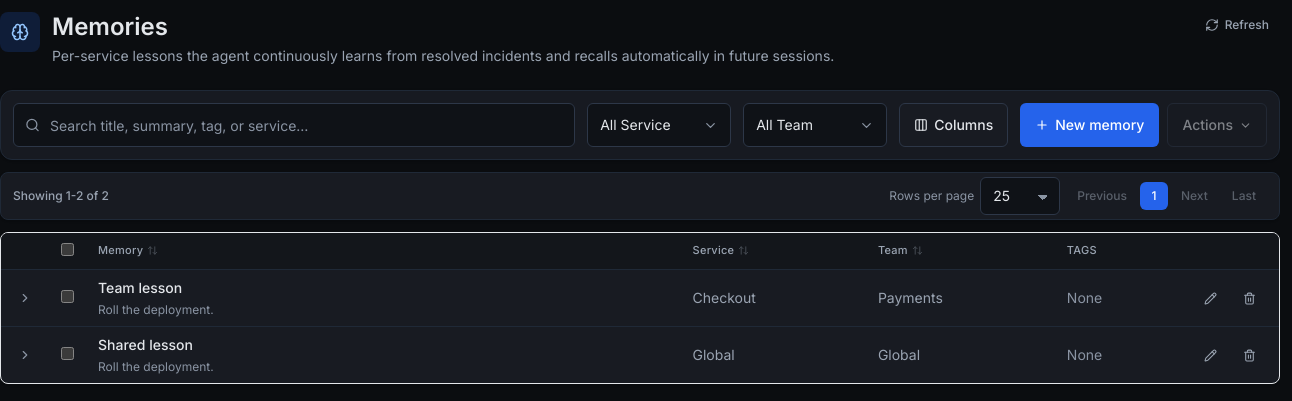
Test: Memories selection and actions › narrows the rows with the Team filter
What coordinates should you click on to do the following:
click the button "All Team"
I would click on:
 (815, 125)
Its box is [743,103,887,147].
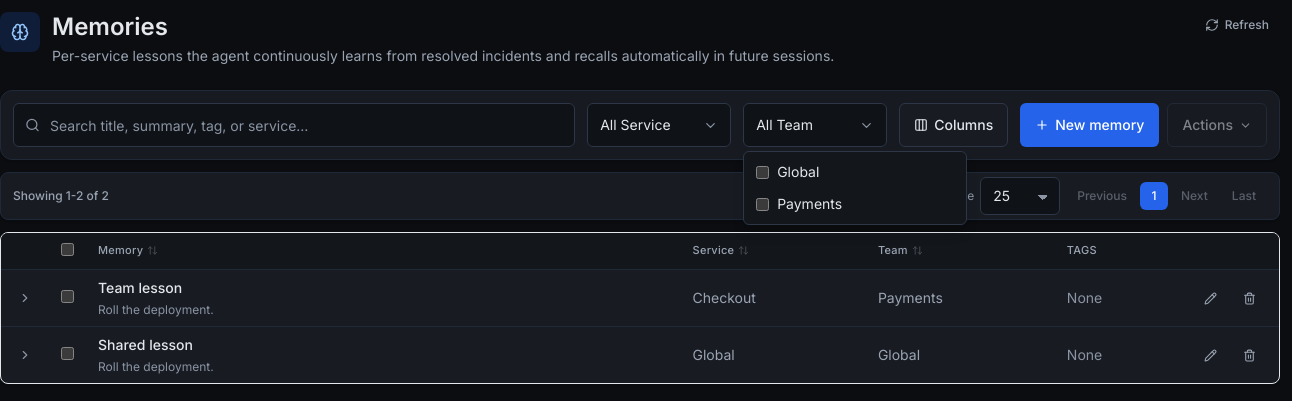
expect the checkbox labelled "Payments" is shown: met, box [756,198,769,210]
What coordinates should you click on to do the following:
click the checkbox labelled "Global"
I would click on:
 (763, 172)
Its box is [756,166,769,178].
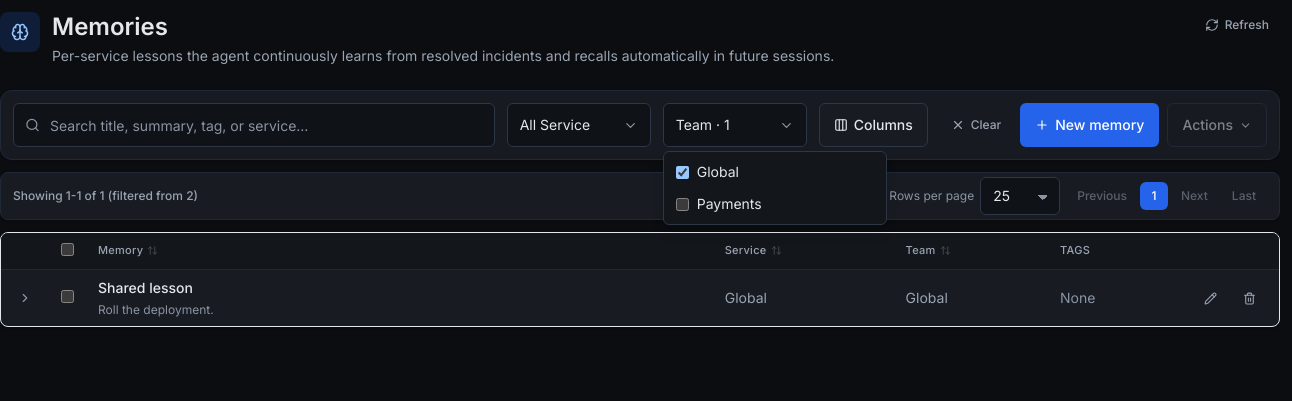
expect the text "Team lesson" is not shown: met
